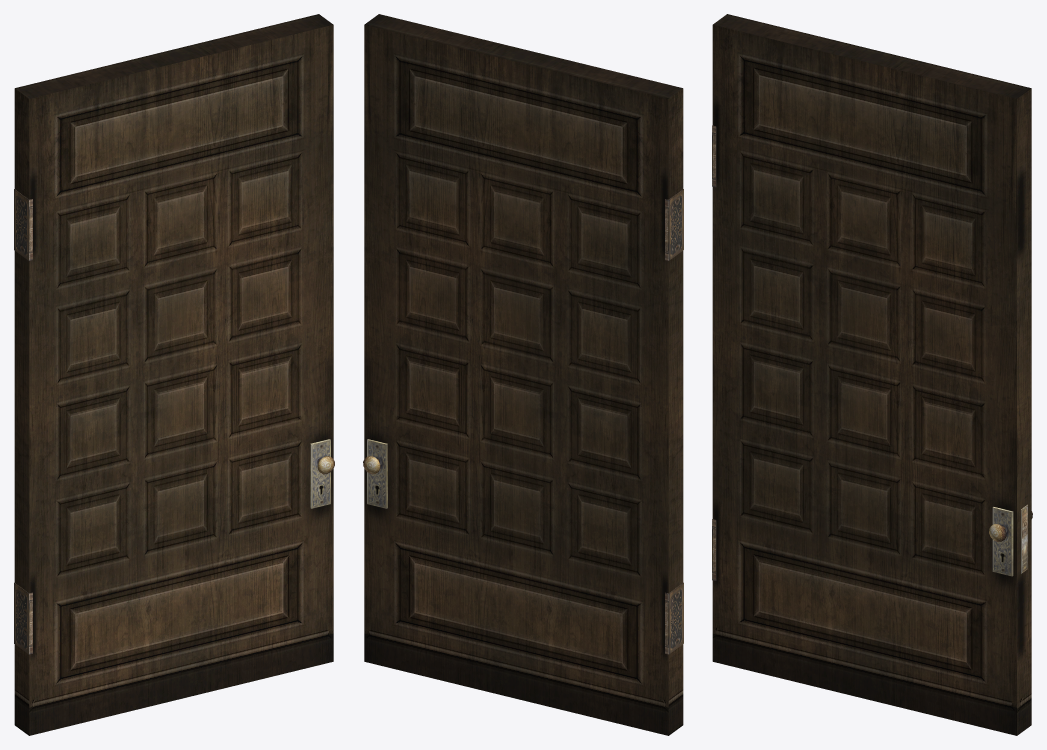
File: doorc.obj
3 views of the same model, side by side, from view 1: azimuth 30°, elevation 25°; view 2: azimuth 150°, elevation 25°; view 3: azimuth 330°, elevation 25° (orthographic).
Parts seen in each view (by area): view 1: DOORS_Static_Court_Wooden_192x384; view 2: DOORS_Static_Court_Wooden_192x384; view 3: DOORS_Static_Court_Wooden_192x384.
Boxes of the visible parts, left/top/right/bottom form: DOORS_Static_Court_Wooden_192x384: left=14, top=14, right=334, bottom=735; DOORS_Static_Court_Wooden_192x384: left=363, top=14, right=683, bottom=735; DOORS_Static_Court_Wooden_192x384: left=712, top=14, right=1032, bottom=735.
Size of the model in its own units: 193 by 384 by 33.63.
Materials: 1 (1 with a texture image).
